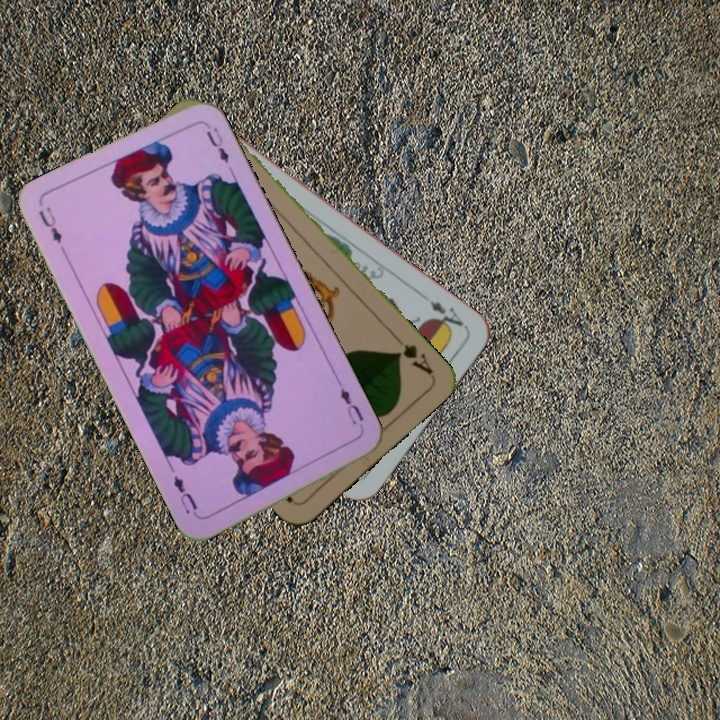EA: (426, 297, 466, 334)
EU: (336, 383, 367, 428), (35, 202, 65, 246)
GA: (392, 339, 436, 378)
